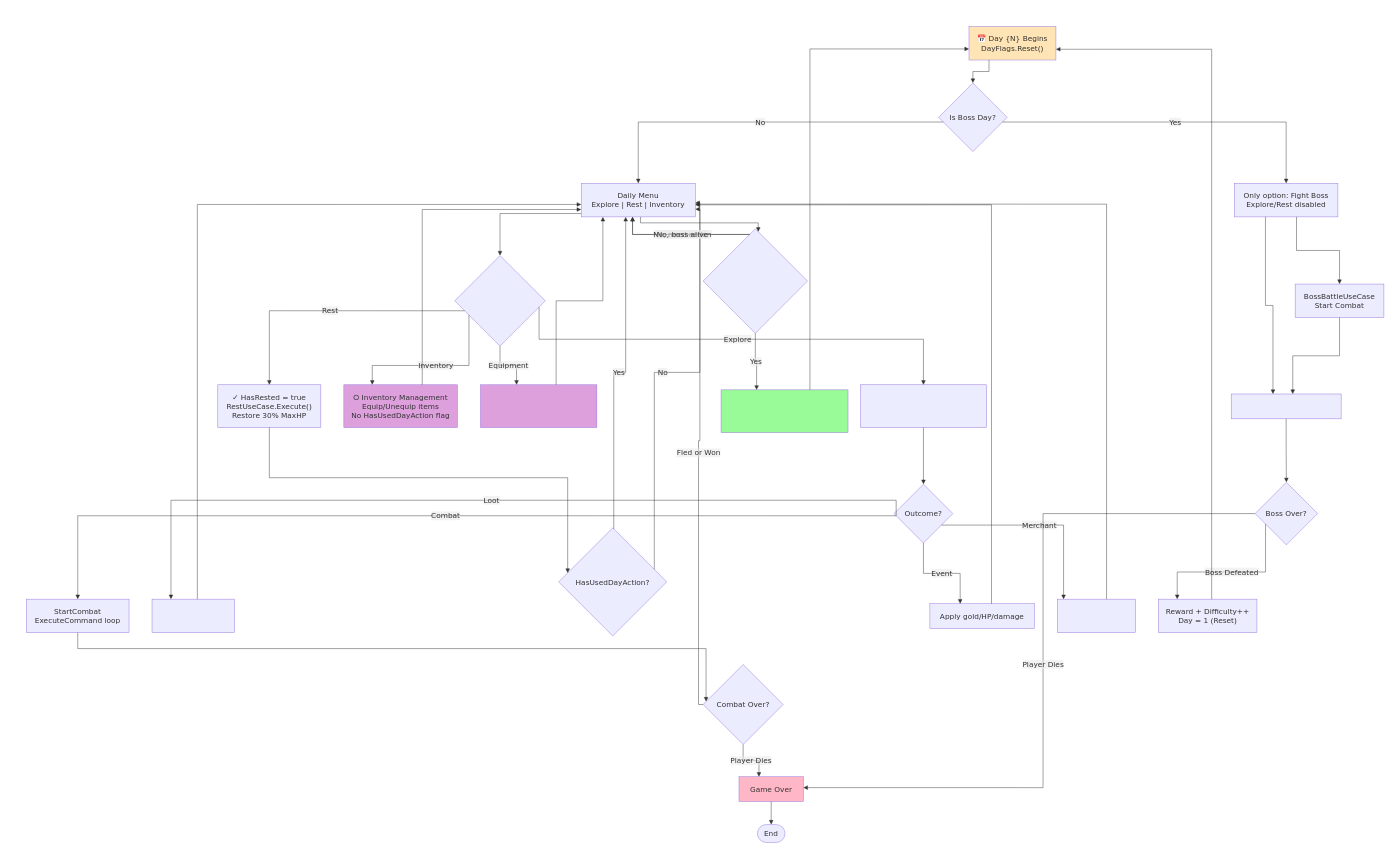
Some shapes in this 1392 by 851 pixel diagram are drawn without their labels. Here are the shapes that lost their labels. From the top down, the box of each, then its label:
(454, 255, 545, 346): Player Chooses?
(703, 228, 808, 333): Ready to Advance?
(480, 384, 597, 428): ⭘ Equipment Management Change loadout No HasUsedDayAction flag
(721, 389, 848, 433): AdvanceDayUseCase CurrentDay++ Check: Day % 5 = 0 → BossDay
(860, 384, 986, 428): ✓ HasExplored = true EncounterTable.PickRandom() ExploreResolver.Resolve()
(1231, 394, 1341, 419): BossCombat: Multi-phase
(152, 599, 234, 633): ApplyLoot Add to inventory
(1057, 599, 1136, 633): Open merchant Buy/Sell
